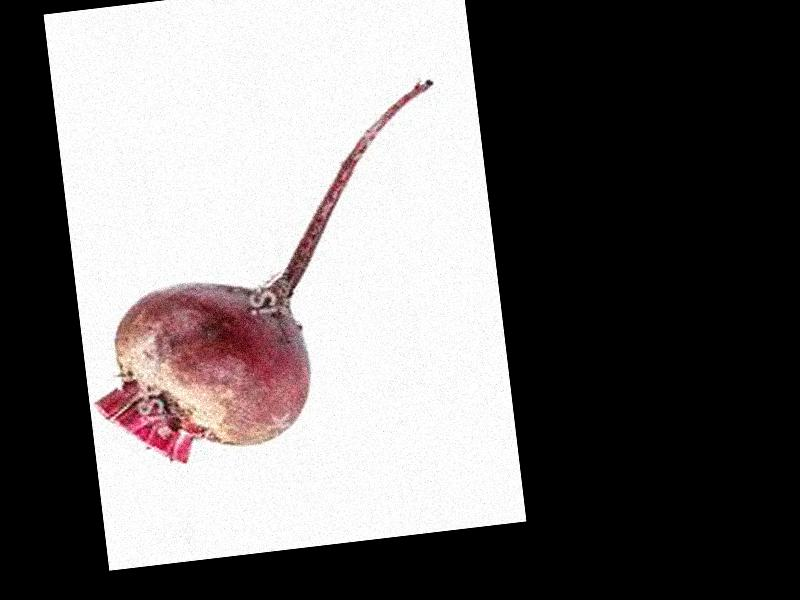Beet: (61, 79, 471, 470)
